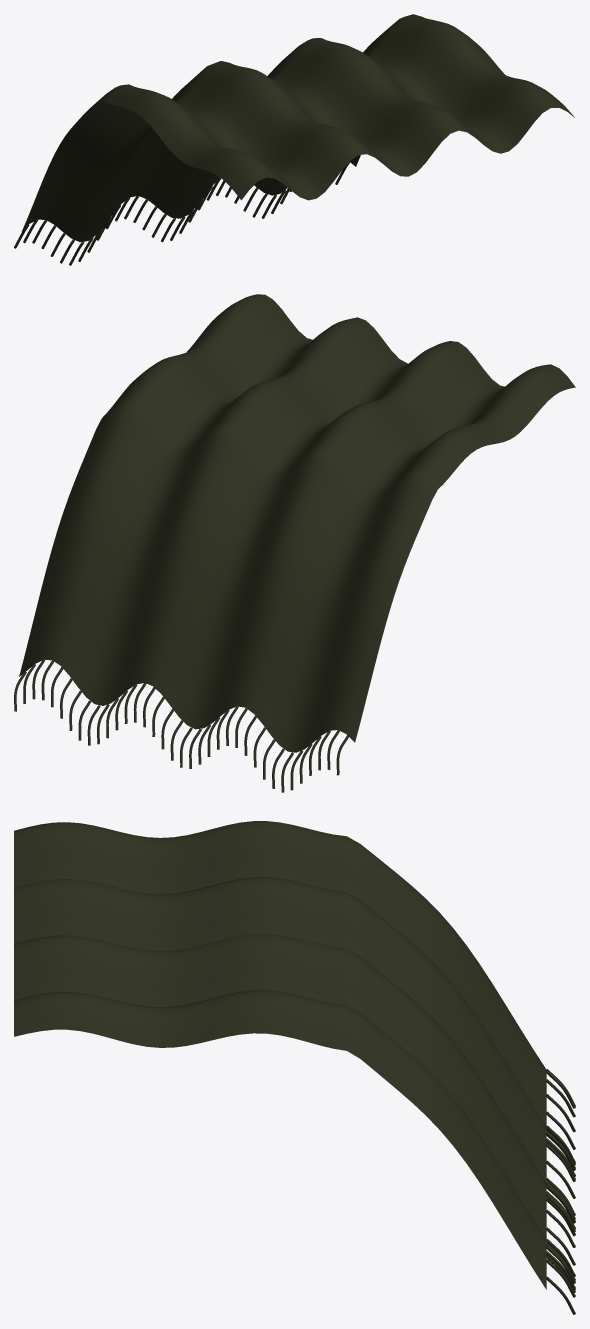
File: sofa-wool-blanket.glb
3 renders of one model, top to bottom at view 1: azimuth 30°, elevation 25°; view 2: azimuth 150°, elevation 25°; view 3: azimuth 270°, elevation 25°, orthographic. The views are drawn at different scales.
Visible parts, largest first — view 1: Blanket draped over sofa arm; view 2: Blanket draped over sofa arm; view 3: Blanket draped over sofa arm.
Boxes of the visible parts, x1,y1,x2,y2 form: Blanket draped over sofa arm: (21,14,574,241); Blanket draped over sofa arm: (19,294,575,752); Blanket draped over sofa arm: (14,821,546,1289).
Bounding box in the file's own units: 0.72 × 0.5614 × 0.8653.
Materials: 1 (1 with a texture image).
